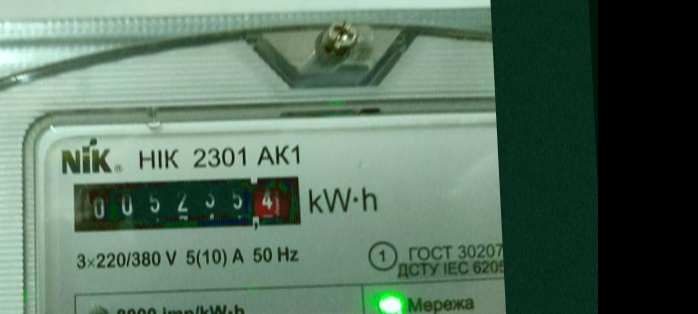0: (92, 193, 109, 220), (120, 190, 136, 215)
2: (175, 186, 191, 211)
3: (203, 182, 218, 208)
4: (260, 183, 277, 210)
5: (230, 182, 247, 210), (147, 187, 164, 214)
screen: (64, 162, 315, 243)
